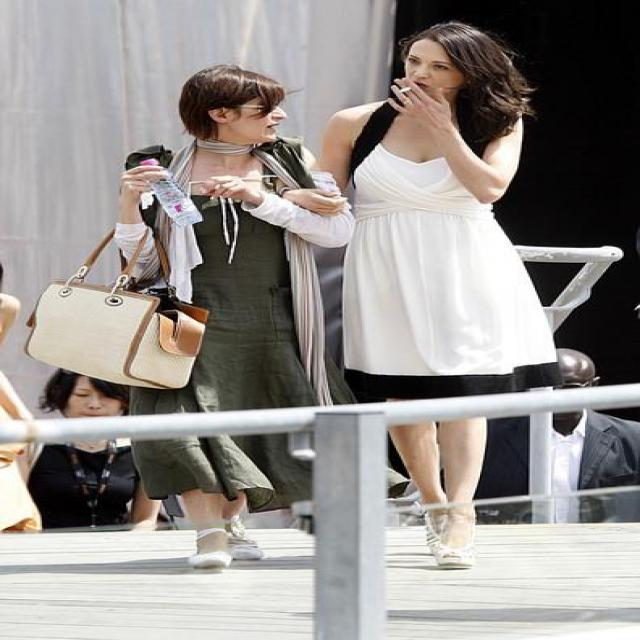cigarette: (171, 174, 228, 198), (392, 70, 418, 100)
